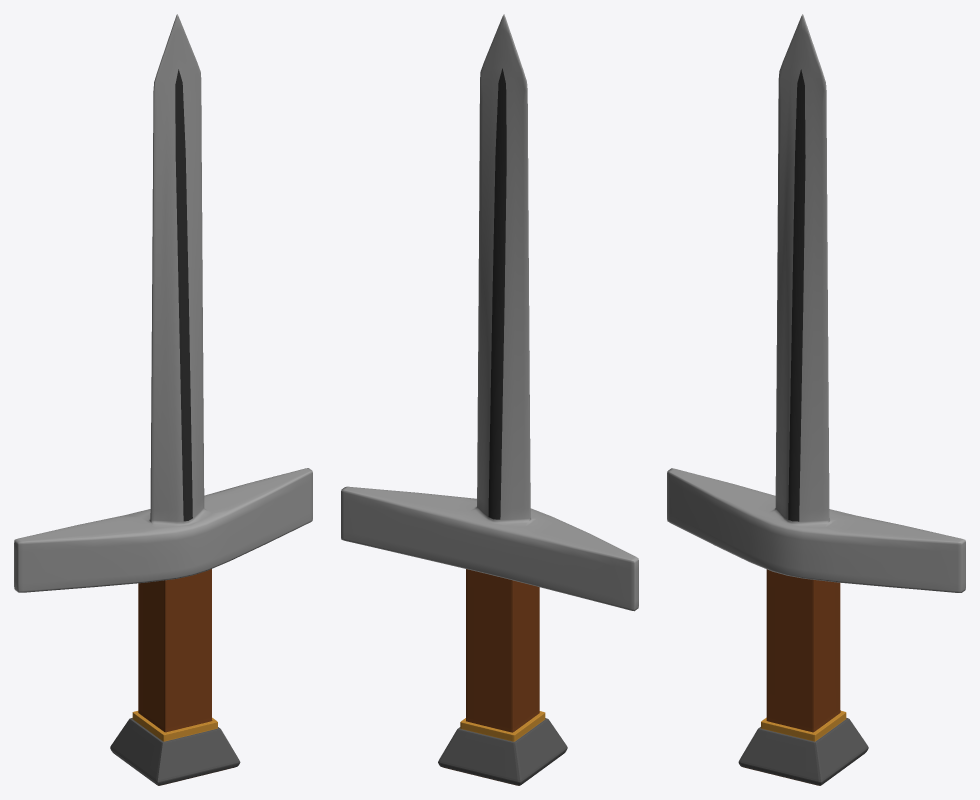
Rendered from Klc.fbx.
3 renders of one model, left to right at view 1: azimuth 30°, elevation 25°; view 2: azimuth 150°, elevation 25°; view 3: azimuth 330°, elevation 25°, orthographic.
Parts seen in each view (by area): view 1: Cube; view 2: Cube; view 3: Cube.
Boxes of the visible parts, x1=… form: Cube: x1=14, y1=14, x2=312, y2=785; Cube: x1=341, y1=14, x2=638, y2=785; Cube: x1=667, y1=14, x2=965, y2=785.
Size of the model in its own units: 66.54 by 161 by 18.79.
